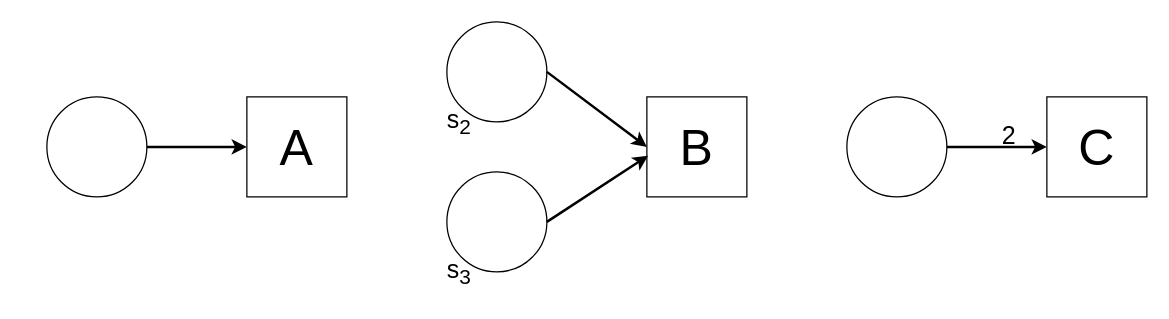
Some shapes in this 1169 by 319 pixel diagram are drawn without their labels. Each missing label, with the centre of its shape:
"s 1" goes at point (96, 146).
"s 4" goes at point (896, 146).
